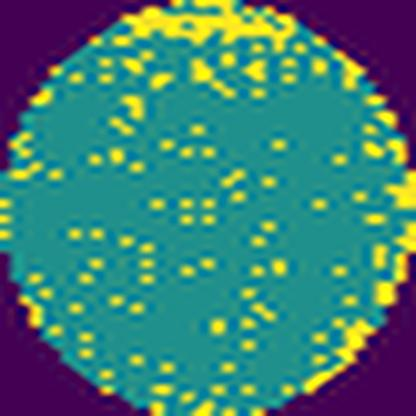Edge-Loc: (116, 0, 298, 53), (296, 314, 380, 392), (376, 217, 415, 312), (383, 163, 415, 213)
